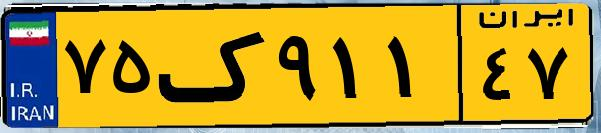1: (385, 28, 445, 110), (330, 28, 385, 110)
4: (475, 38, 525, 113)
5: (110, 28, 158, 98)
7: (57, 26, 110, 100), (525, 38, 570, 115)
9: (270, 28, 330, 110)
ک: (158, 12, 270, 120)
